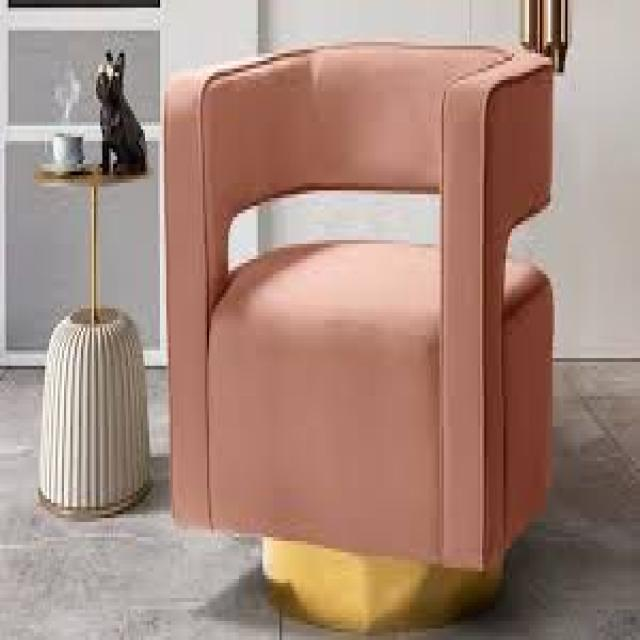chair: (110, 25, 603, 640)
